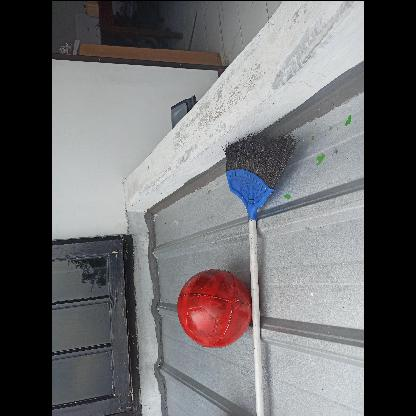red_ball: (175, 270, 252, 346)
